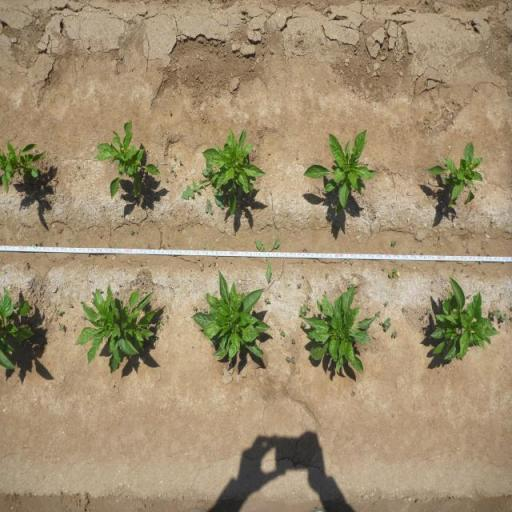plant: (300, 126, 378, 219), (81, 281, 151, 372), (308, 282, 376, 375), (200, 270, 265, 363), (92, 118, 163, 202), (429, 273, 490, 363), (422, 138, 486, 209), (0, 284, 39, 374), (210, 126, 264, 191), (0, 138, 48, 195)
weed: (183, 160, 222, 211), (254, 236, 280, 284), (151, 305, 166, 330), (490, 308, 509, 322), (378, 316, 392, 330), (298, 303, 311, 318), (204, 198, 214, 216), (386, 267, 401, 279), (148, 336, 156, 348), (55, 308, 63, 318), (30, 241, 43, 247), (280, 329, 286, 341), (391, 330, 398, 339), (300, 320, 306, 330), (418, 314, 425, 322), (295, 282, 302, 290), (264, 297, 271, 305), (390, 239, 397, 247), (464, 246, 470, 254), (466, 293, 472, 300), (290, 358, 296, 365), (202, 307, 208, 314), (319, 312, 324, 320), (60, 322, 64, 332), (58, 228, 64, 234), (375, 310, 381, 316), (382, 300, 388, 306), (302, 247, 308, 253), (67, 302, 73, 308), (426, 307, 431, 314), (301, 273, 306, 280), (212, 260, 216, 268), (90, 297, 94, 305), (20, 221, 25, 227), (169, 166, 174, 172), (497, 324, 502, 330), (192, 306, 197, 312), (81, 315, 86, 321), (286, 356, 290, 363), (174, 171, 178, 177), (173, 154, 177, 160), (430, 278, 434, 284), (401, 306, 405, 312), (292, 338, 296, 344), (91, 290, 95, 296), (98, 286, 102, 292), (55, 241, 59, 246), (178, 160, 182, 165), (168, 110, 172, 115), (382, 267, 386, 272), (207, 262, 211, 267), (81, 173, 84, 179), (509, 315, 512, 321), (278, 292, 281, 298), (200, 266, 203, 272), (76, 166, 80, 170), (466, 274, 470, 278), (364, 347, 368, 351), (478, 252, 482, 256), (116, 290, 118, 298), (185, 176, 188, 180), (454, 266, 456, 272), (461, 268, 464, 272), (301, 260, 304, 264), (345, 258, 347, 264), (350, 261, 353, 265), (401, 262, 404, 266), (421, 252, 424, 256), (166, 178, 168, 183), (202, 262, 204, 267), (314, 259, 316, 263), (212, 344, 214, 348), (214, 256, 218, 258), (288, 284, 290, 286)
